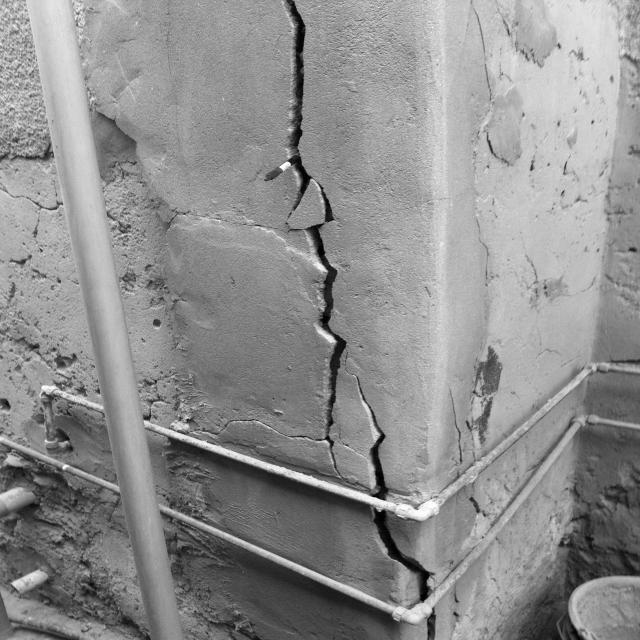Wall_Cracks: (131, 3, 505, 640)
